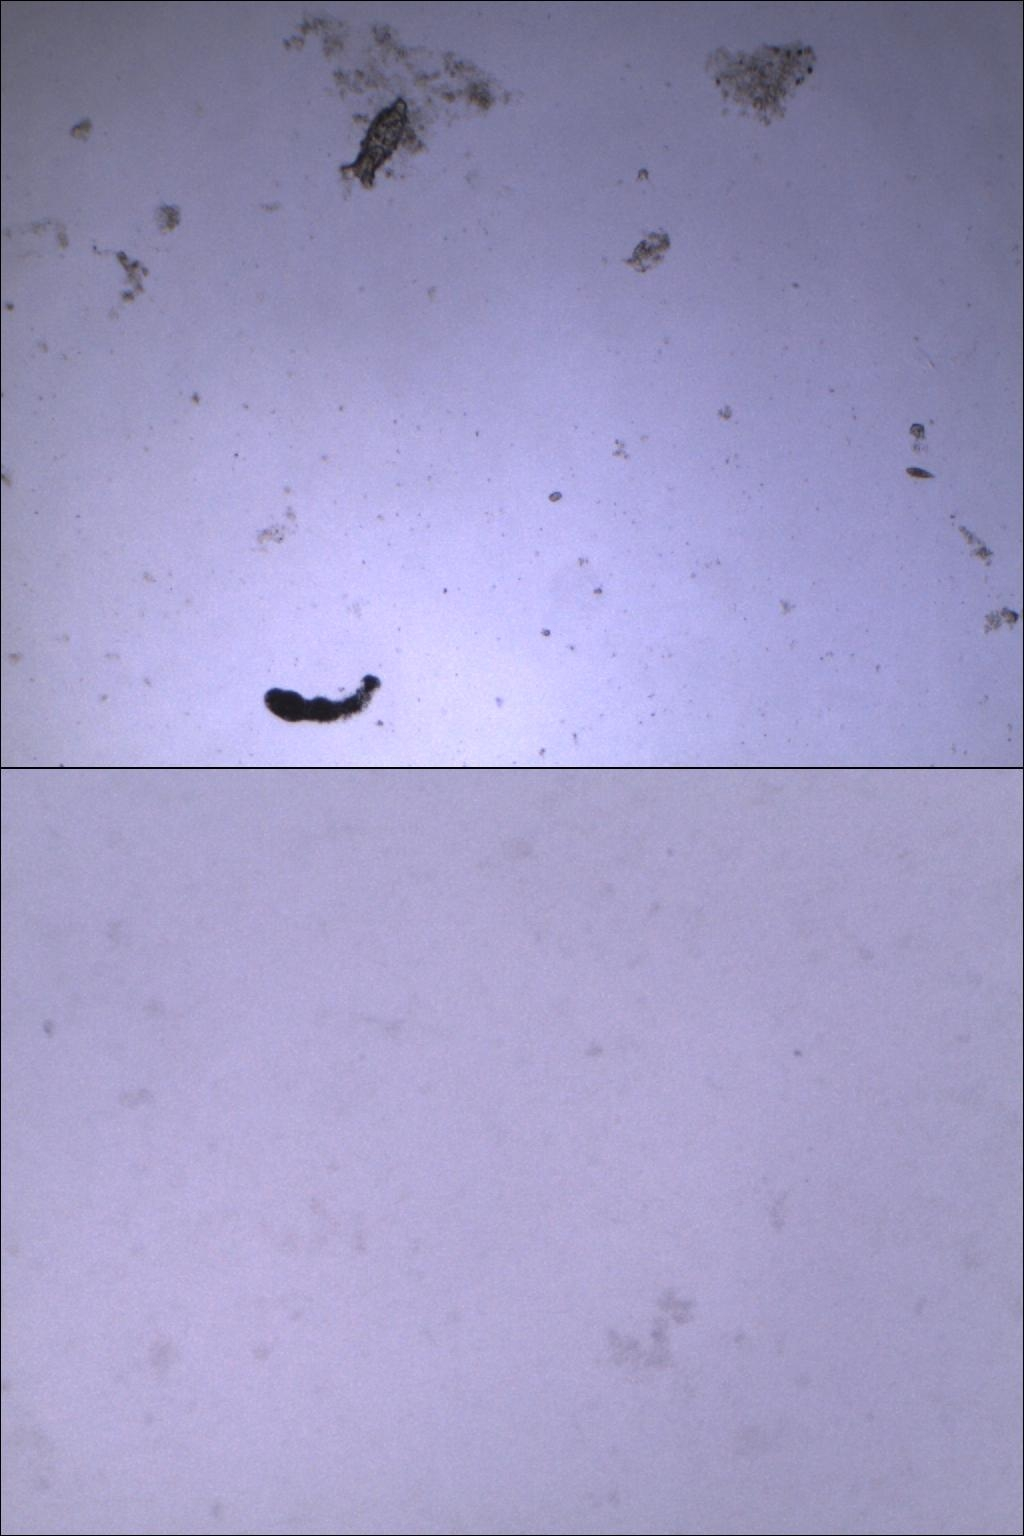N.Fowleri Amoeba: (586, 1269, 707, 1400)
Proteus Amoeba: (246, 657, 392, 741)
